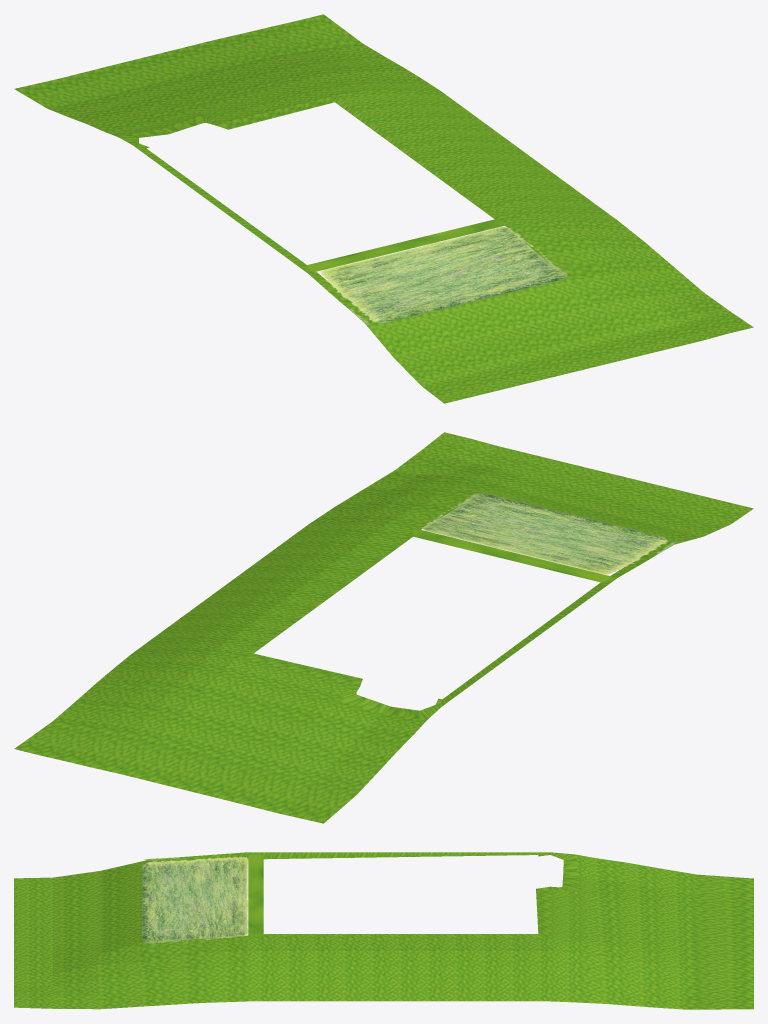
File: base_pasto_plano_patio.glb
The picture shows the model from 3 angles, top to bottom: view 1: azimuth 30°, elevation 25°; view 2: azimuth 150°, elevation 25°; view 3: azimuth 270°, elevation 25°; orthographic projection. The views are drawn at different scales.
Visible parts, largest first — view 1: base pasto patio, base pasto huerta; view 2: base pasto patio, base pasto huerta; view 3: base pasto patio, base pasto huerta.
Boxes of the visible parts, box(x1,y1,x2,y2) form: base pasto patio: box(14, 14, 753, 403); base pasto huerta: box(304, 219, 567, 325); base pasto patio: box(14, 432, 753, 823); base pasto huerta: box(413, 493, 677, 583); base pasto patio: box(14, 852, 753, 1009); base pasto huerta: box(141, 852, 263, 943).
Size of what is drawn, in the model's own units: 30.88 by 3.07 by 74.3.
2 materials, 2 textured.
